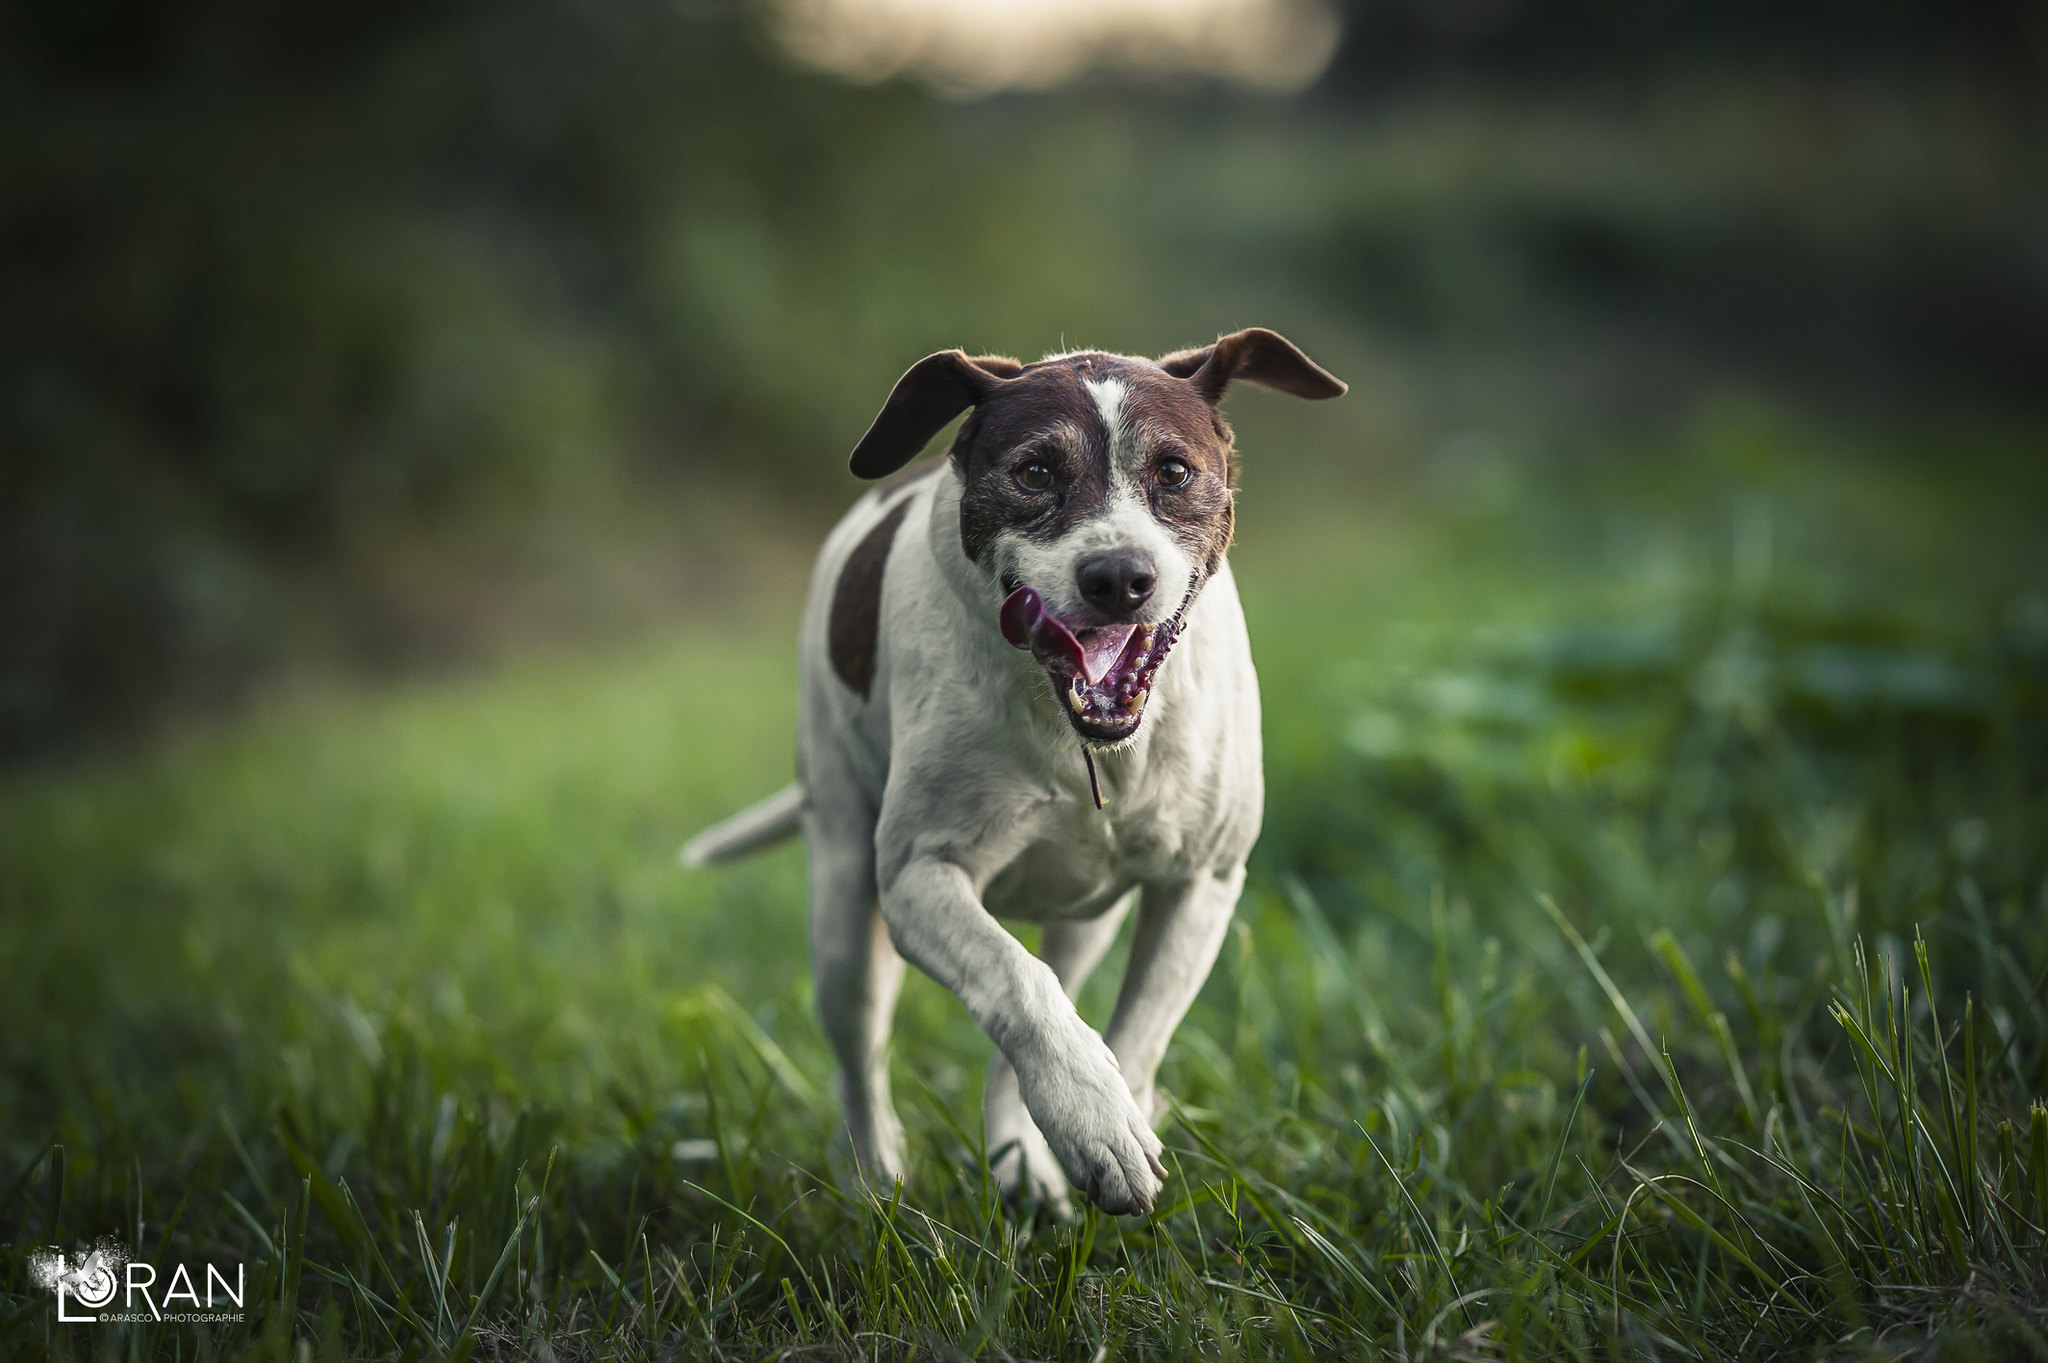dog: (740, 307, 1377, 1212)
